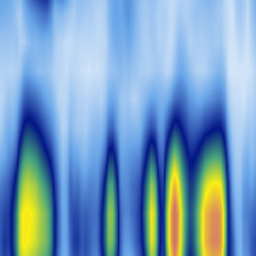defect: (1, 92, 60, 256), (193, 103, 232, 255), (160, 97, 190, 256), (133, 119, 160, 256), (94, 130, 120, 256), (69, 183, 87, 256)
